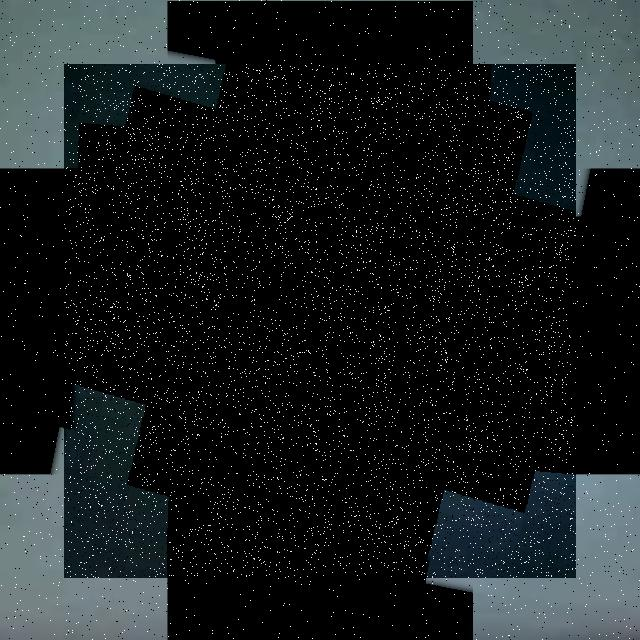lima puluh ribu rupiah: (64, 64, 576, 578)
